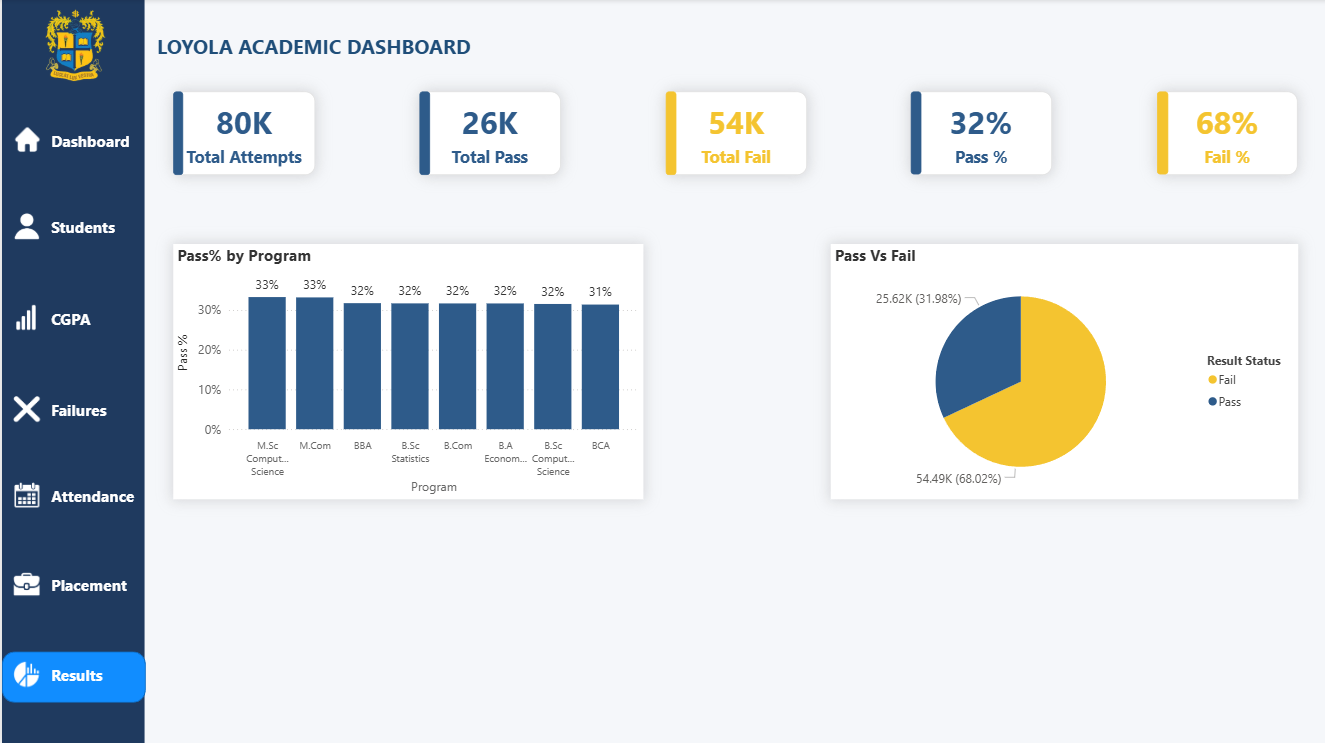

This screenshot's page, from the dashboard's own definition file:
{"tool":"powerbi","page":{"name":"Results","canvas":[1600,900],"ordinal":6},"visuals":[{"type":"shape","box":[0,0,171.9,900.3],"z":0},{"type":"textbox","box":[173.4,36.2,405.7,64.8],"z":1000},{"type":"image","box":[12.9,257.2,33.2,33.2],"z":1000,"group":"g6"},{"type":"image","box":[39.2,9,98,95],"z":2000},{"type":"card","fields":{"Values":["scores.Total Attempts"]},"box":[206.6,111.6,171.3,101],"z":3000,"group":"g1"},{"type":"card","fields":{"Values":["scores.Fail %"]},"box":[1393.4,111.6,169.5,101],"z":3000,"group":"g9"},{"type":"card","fields":{"Values":["scores.Pass %"]},"box":[1097.1,111.6,170.2,101],"z":4000,"group":"g3"},{"type":"image","box":[12.9,367.3,33.2,33.2],"z":4000,"group":"g7"},{"type":"card","fields":{"Values":["scores.Total Pass"]},"box":[504,111.7,170.2,101],"z":5000,"group":"g2"},{"type":"card","fields":{"Values":["scores.Total Fail"]},"box":[800.3,111.9,170.2,101],"z":5000,"group":"g5"},{"type":"pieChart","title":"Pass Vs Fail","fields":{"Category":["scores.Result Status"],"Y":["CountNonNull(scores.SubjectCode)"]},"box":[999.8,296.2,564,307.6],"z":6000},{"type":"image","box":[12.9,477.4,33.2,33.2],"z":6000,"group":"g8"},{"type":"clusteredColumnChart","title":"Pass% by Program","fields":{"Category":["students.Program"],"Y":["scores.Pass %"]},"box":[206.6,296.2,567,307.6],"z":7000},{"type":"image","box":[12.9,583,33.2,33.2],"z":8000,"group":"g10"},{"type":"group","id":"g1","title":"Group 1","box":[206.6,111.6,171.3,101.1],"z":9000},{"type":"group","id":"g2","title":"Group 2","box":[504,111.4,170.2,101.2],"z":10000},{"type":"image","box":[12.9,688.5,33.2,33.2],"z":10000,"group":"g11"},{"type":"group","id":"g3","title":"Group 3","box":[1096.8,111.6,170.5,101],"z":11000},{"type":"group","id":"g4","title":"Group 4","box":[1393.4,111.6,170.4,101],"z":12000},{"type":"image","box":[12.9,797.1,33.2,33.2],"z":12000,"group":"g14"},{"type":"group","id":"g5","title":"Group 2","box":[800.3,111.6,170.4,102.5],"z":13000},{"type":"group","id":"g6","title":"Group 8","box":[12.9,257.2,136.1,40.2],"z":14000},{"type":"shape","title":"Shape1","box":[0,787.2,173.4,61.8],"z":14000,"group":"g13"},{"type":"image","title":"Home","box":[12.9,153.2,33.2,31.7],"z":15000,"group":"g12"},{"type":"group","id":"g7","title":"Group 9","box":[12.9,367.3,101.8,40.2],"z":15000},{"type":"shape","box":[1096.8,111.8,12.7,100],"z":16000,"group":"g3"},{"type":"group","id":"g8","title":"Group 10","box":[12.9,477.4,136.1,40.1],"z":16000},{"type":"group","id":"g9","title":"Group 5","box":[1393.4,111.6,169.5,101],"z":16001,"group":"g4"},{"type":"shape","box":[206.8,111.8,12.4,101],"z":17000,"group":"g1"},{"type":"shape","box":[1393.7,112,13.6,100],"z":17000,"group":"g9"},{"type":"group","id":"g10","title":"Group 11","box":[12.9,582.5,160.2,39.7],"z":17000},{"type":"shape","box":[504.1,111.4,12.5,100.8],"z":18000,"group":"g2"},{"type":"shape","box":[800.4,111.6,12.5,100.8],"z":18000,"group":"g5"},{"type":"group","id":"g11","title":"Group 12","box":[12.9,688.5,150.5,40],"z":18000},{"type":"group","id":"g12","title":"Group 6","box":[12.9,153.2,148.7,39.7],"z":19000},{"type":"group","id":"g13","title":"Group 7","box":[0,787.2,173.4,61.8],"z":20000},{"type":"group","id":"g14","title":"Group 13","box":[12.9,797,114.4,39.7],"z":20000,"group":"g13"},{"type":"textbox","box":[53.4,153.2,108.2,39.7],"z":24000,"group":"g12"},{"type":"textbox","box":[53.4,257.8,95.6,39.7],"z":25000,"group":"g6"},{"type":"textbox","box":[53.4,367.8,61.3,39.7],"z":26000,"group":"g7"},{"type":"textbox","box":[53.4,477.8,95.6,39.7],"z":27000,"group":"g8"},{"type":"textbox","box":[54.1,582.5,119,39.7],"z":28000,"group":"g10"},{"type":"textbox","box":[53.4,688.8,110,39.7],"z":29000,"group":"g11"},{"type":"textbox","box":[53.4,797,73.9,39.7],"z":30000,"group":"g14"}]}

Visuals, with their boxes on the page's 1600x900 design canvas (x1, y1, x2, y2). These are canvas units, not pixel positions in the 1325x743 screenshot, which may show the page scaled, cropped or inside an application window:
shape: bbox(0, 0, 172, 900)
textbox: bbox(173, 36, 579, 101)
image: bbox(13, 257, 46, 290)
image: bbox(39, 9, 137, 104)
card - scores.Total Attempts: bbox(207, 112, 378, 213)
card - scores.Fail %: bbox(1393, 112, 1563, 213)
card - scores.Pass %: bbox(1097, 112, 1267, 213)
image: bbox(13, 367, 46, 400)
card - scores.Total Pass: bbox(504, 112, 674, 213)
card - scores.Total Fail: bbox(800, 112, 970, 213)
"Pass Vs Fail" pieChart: bbox(1000, 296, 1564, 604)
image: bbox(13, 477, 46, 511)
"Pass% by Program" clusteredColumnChart: bbox(207, 296, 774, 604)
image: bbox(13, 583, 46, 616)
"Group 1" group: bbox(207, 112, 378, 213)
"Group 2" group: bbox(504, 111, 674, 213)
image: bbox(13, 688, 46, 722)
"Group 3" group: bbox(1097, 112, 1267, 213)
"Group 4" group: bbox(1393, 112, 1564, 213)
image: bbox(13, 797, 46, 830)
"Group 2" group: bbox(800, 112, 971, 214)
"Group 8" group: bbox(13, 257, 149, 297)
"Shape1" shape: bbox(0, 787, 173, 849)
"Home" image: bbox(13, 153, 46, 185)
"Group 9" group: bbox(13, 367, 115, 408)
shape: bbox(1097, 112, 1110, 212)
"Group 10" group: bbox(13, 477, 149, 518)
"Group 5" group: bbox(1393, 112, 1563, 213)
shape: bbox(207, 112, 219, 213)
shape: bbox(1394, 112, 1407, 212)
"Group 11" group: bbox(13, 582, 173, 622)
shape: bbox(504, 111, 517, 212)
shape: bbox(800, 112, 813, 212)
"Group 12" group: bbox(13, 688, 163, 728)
"Group 6" group: bbox(13, 153, 162, 193)
"Group 7" group: bbox(0, 787, 173, 849)
"Group 13" group: bbox(13, 797, 127, 837)
textbox: bbox(53, 153, 162, 193)
textbox: bbox(53, 258, 149, 298)
textbox: bbox(53, 368, 115, 408)
textbox: bbox(53, 478, 149, 518)
textbox: bbox(54, 582, 173, 622)
textbox: bbox(53, 689, 163, 728)
textbox: bbox(53, 797, 127, 837)
